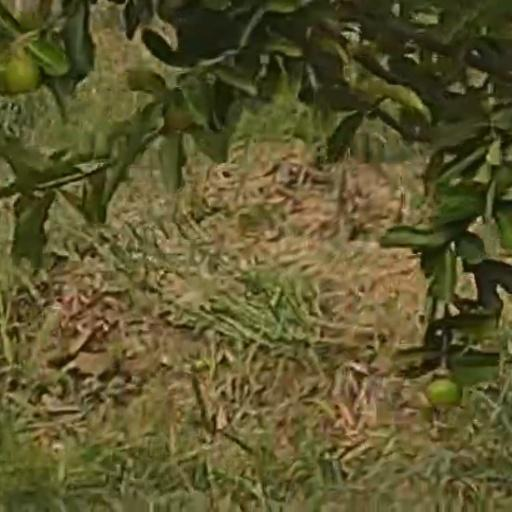acerola: (1, 55, 40, 92), (429, 378, 460, 404)
